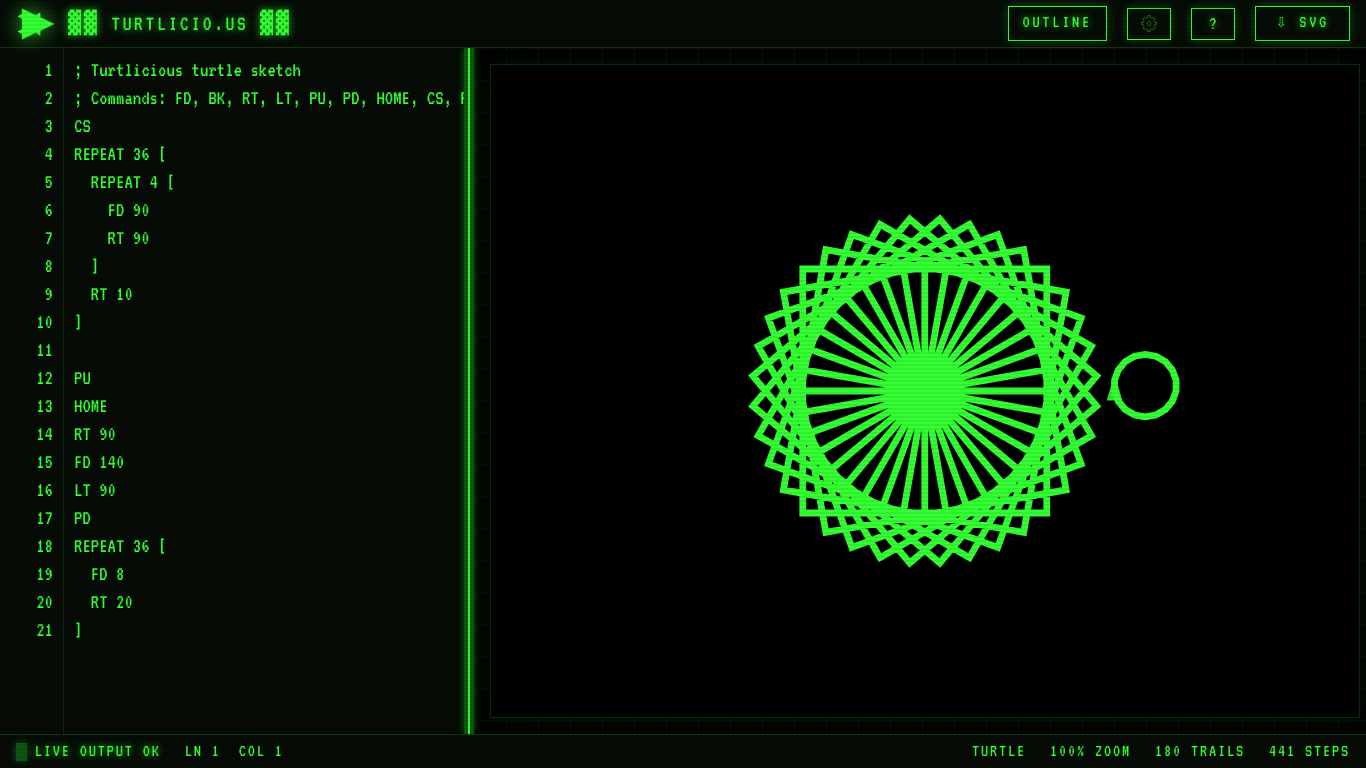
Test: App › shows and persists square brush controls in configuration
Click the button named "open configuration".
click(1149, 24)  # box [1127,8,1171,40]
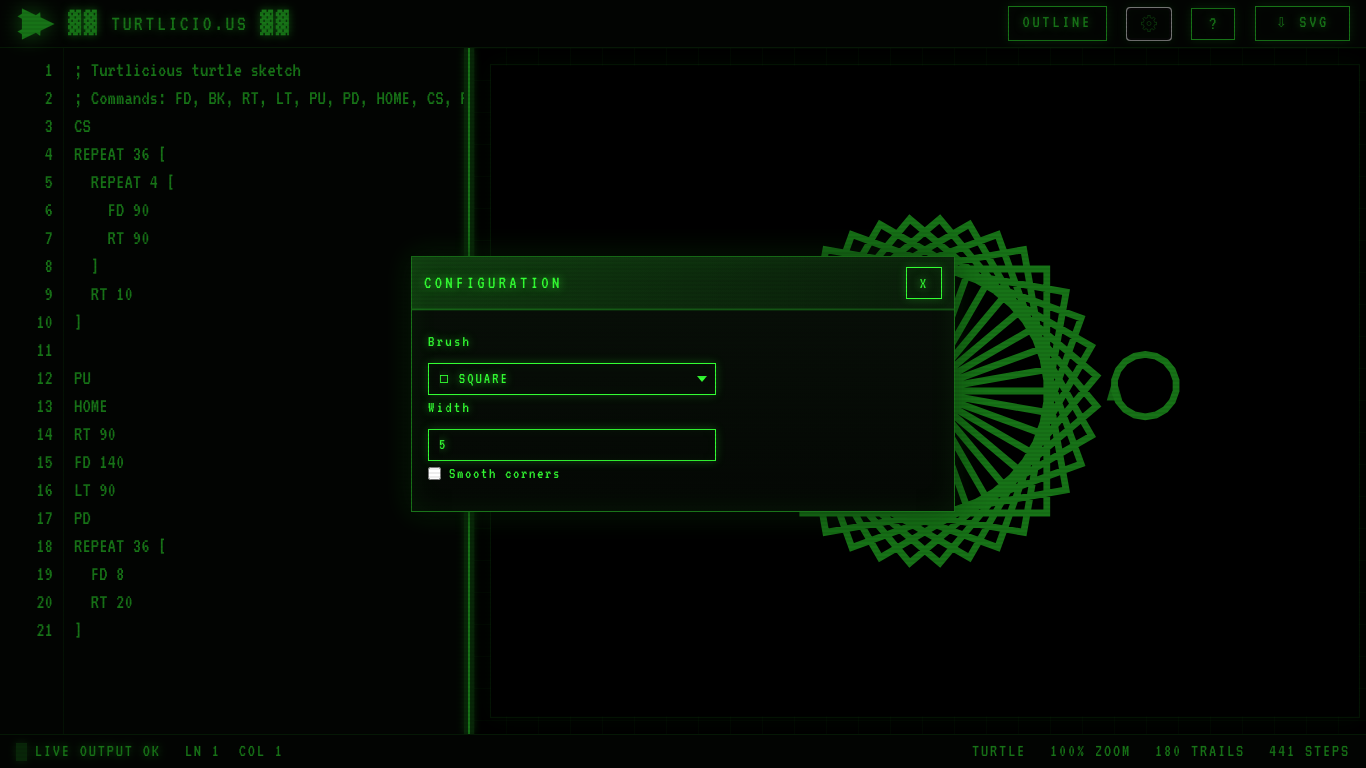
Select "◻ SQUARE" in the dropdown named "select brush" at point(572, 379), box [428,363,716,395]
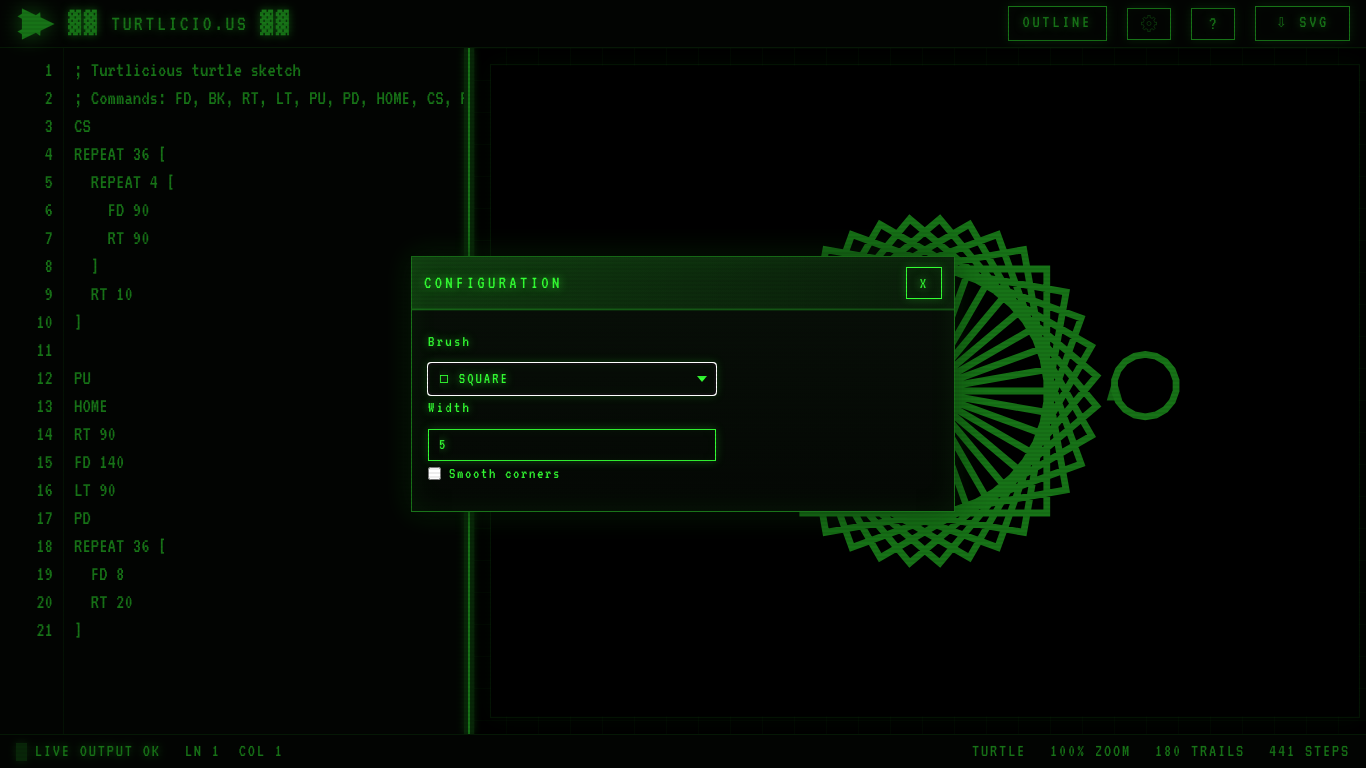
Expected: the number field named "square brush width" holds "5"
Expected: the checkbox named "square brush smooth corners" is not checked, [428,466,441,480]
Replace the text in the number field named "square brush width" with "7.5" at point(572, 445), box [428,429,716,461]
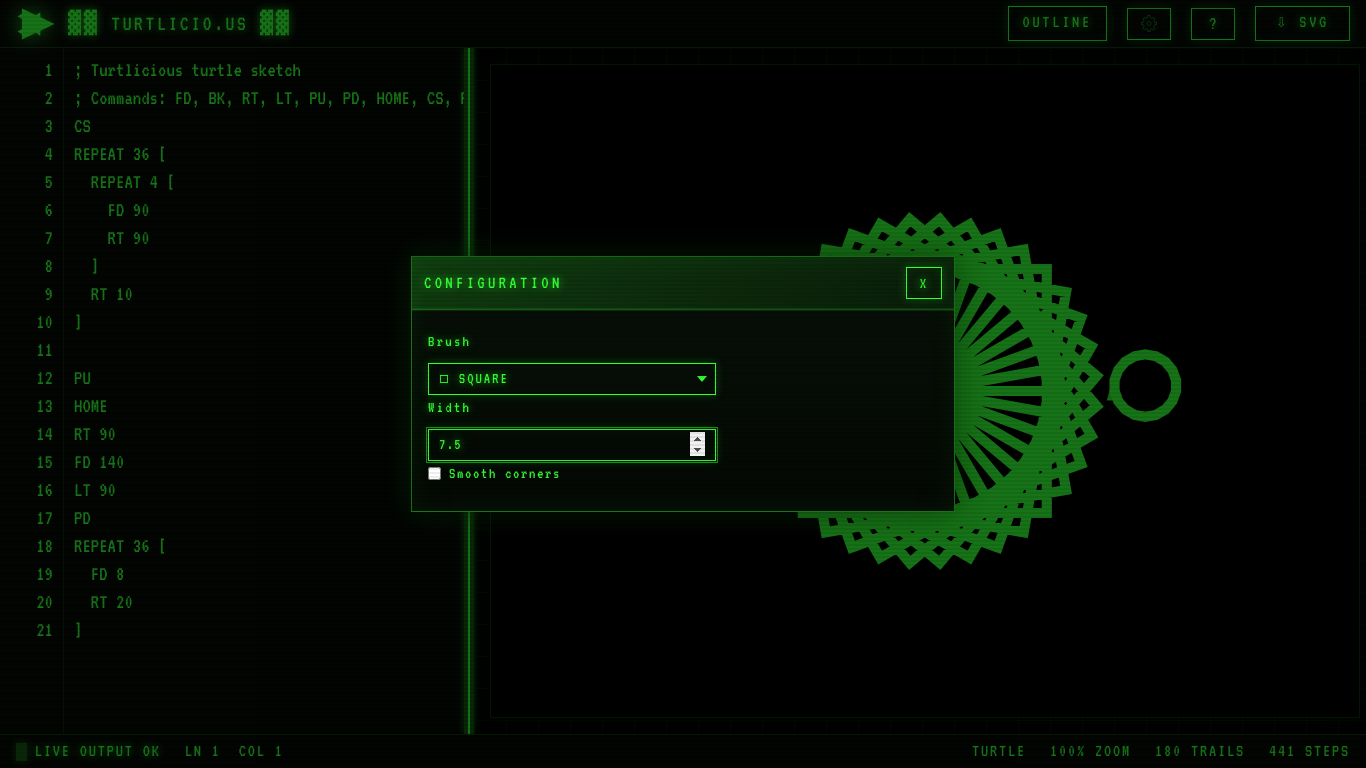
Click the checkbox named "square brush smooth corners".
click(434, 473)  # box [428,466,441,480]
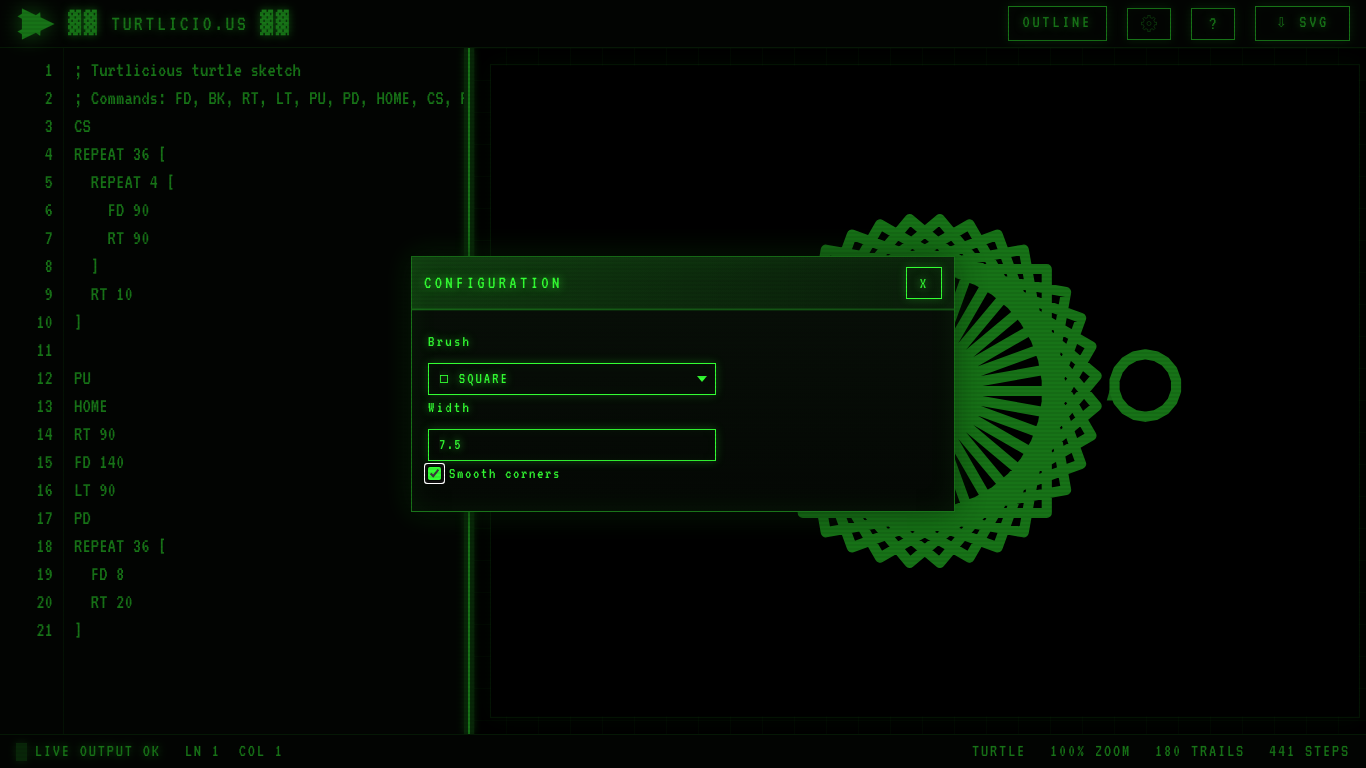
Click the button named "close configuration".
click(924, 283)  # box [906,267,942,299]
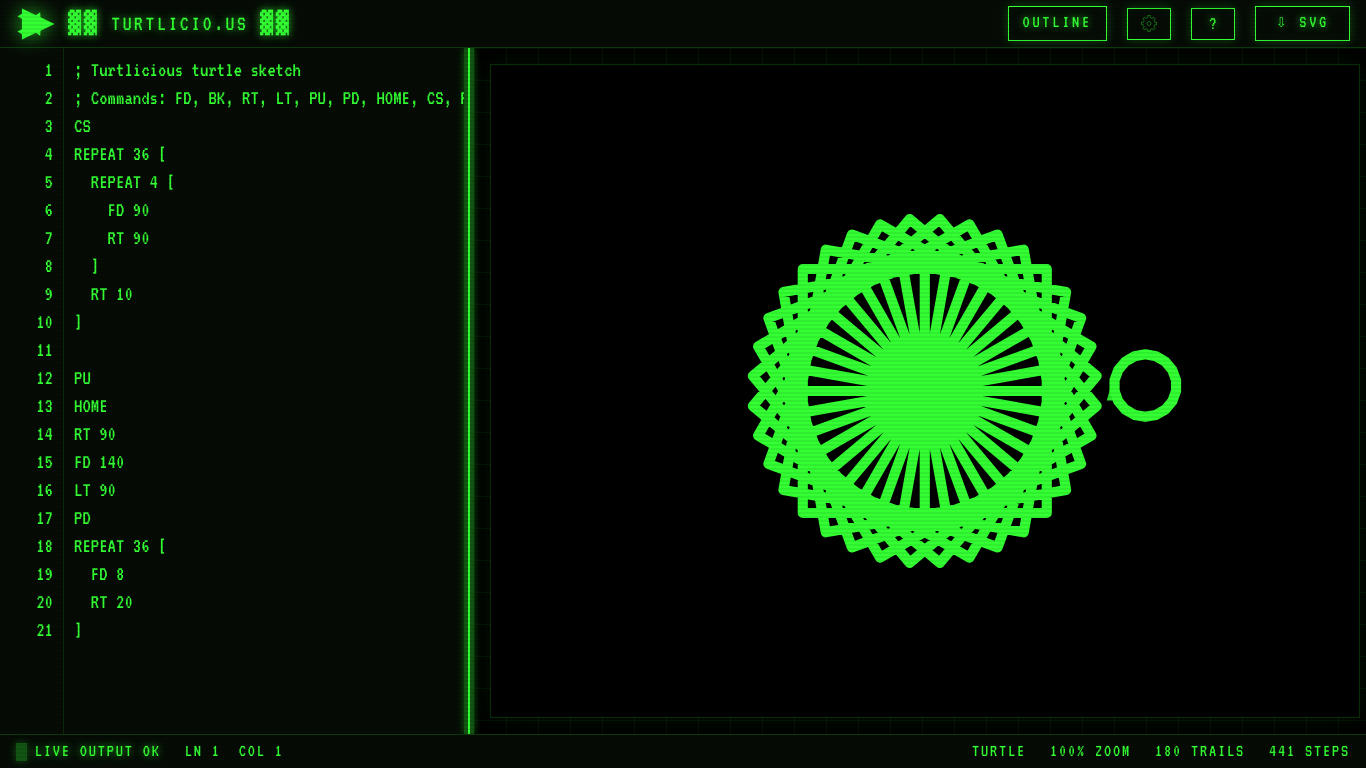
Click the button named "open configuration".
click(1149, 24)  # box [1127,8,1171,40]
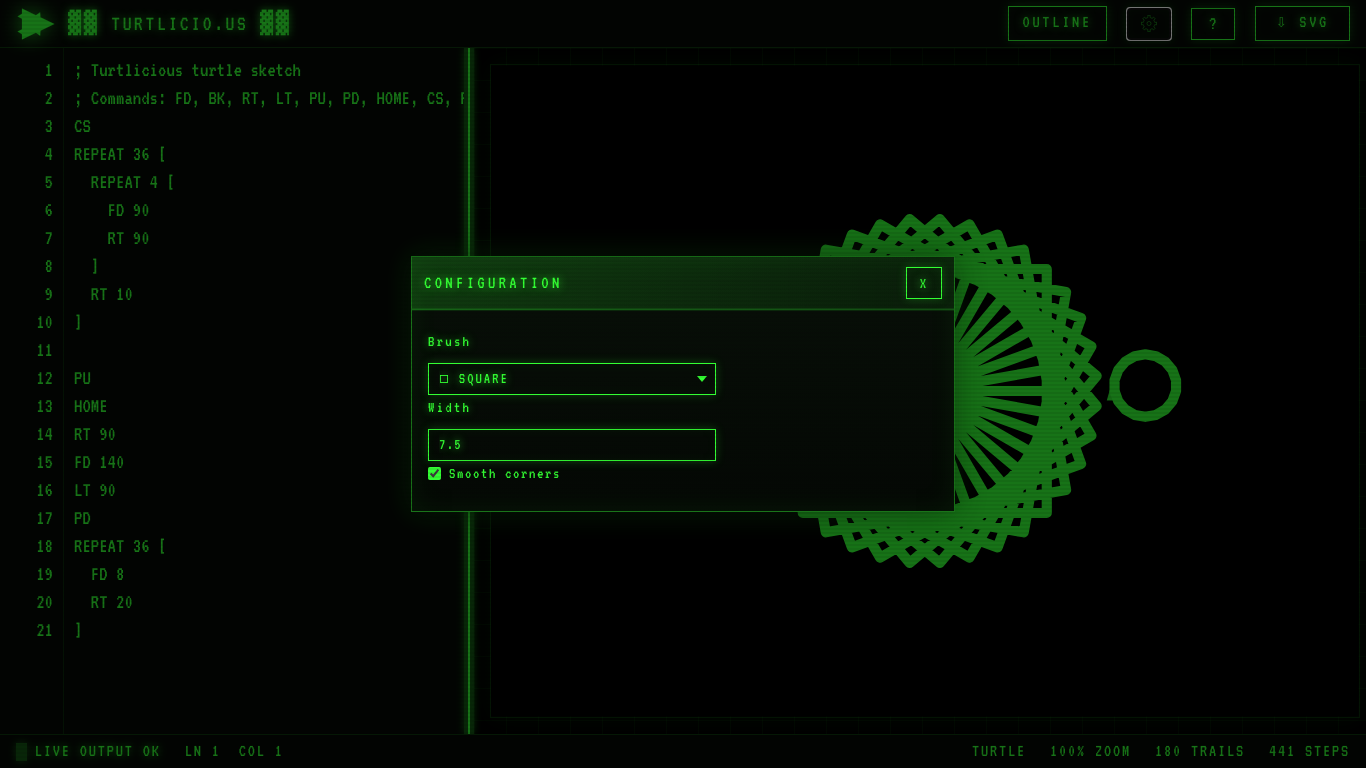
Expected: the dropdown named "select brush" shows "◻ SQUARE", [428,363,716,395]
Expected: the number field named "square brush width" holds "7.5", [428,429,716,461]
Expected: the checkbox named "square brush smooth corners" is checked, [428,466,441,480]
